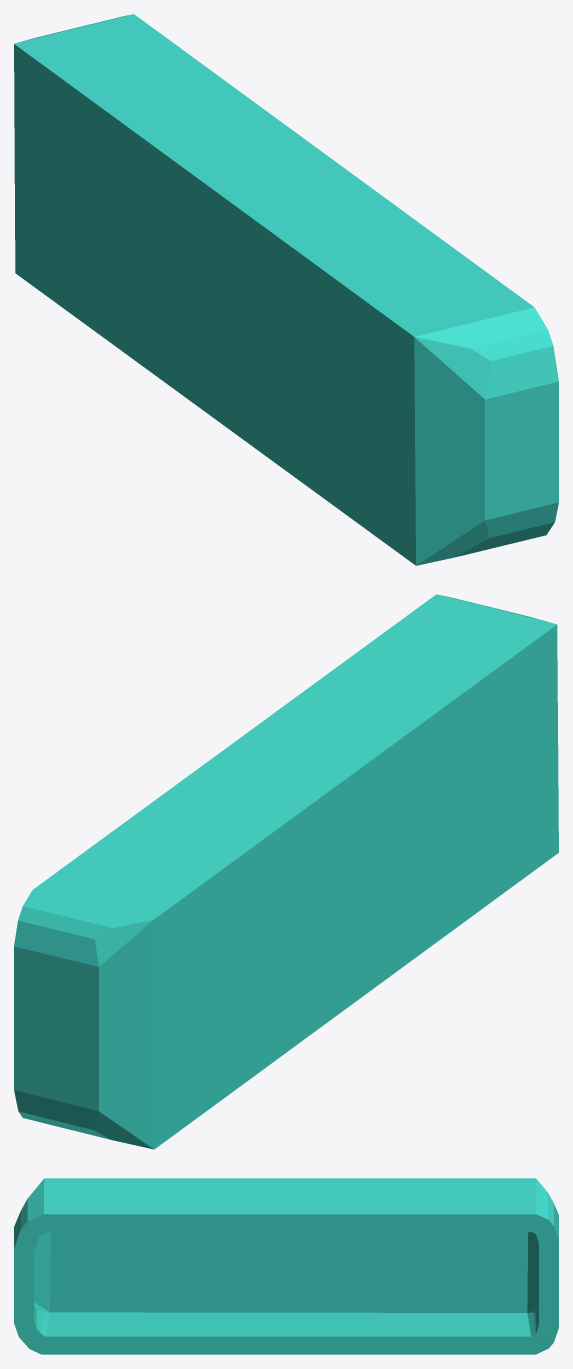
Rendered from miniportreit.fbx.
3 views of the same model, one above another, from view 1: azimuth 30°, elevation 25°; view 2: azimuth 150°, elevation 25°; view 3: azimuth 270°, elevation 25° (orthographic). The views are drawn at different scales.
Parts seen in each view (by area): view 1: Cube; view 2: Cube; view 3: Cube.
Boxes of the visible parts, box(x1,y1,x2,y2) form: Cube: box(14, 14, 558, 565); Cube: box(14, 594, 558, 1149); Cube: box(14, 1178, 558, 1354).
Bounding box in the file's own units: 84.46 × 154 × 539.
